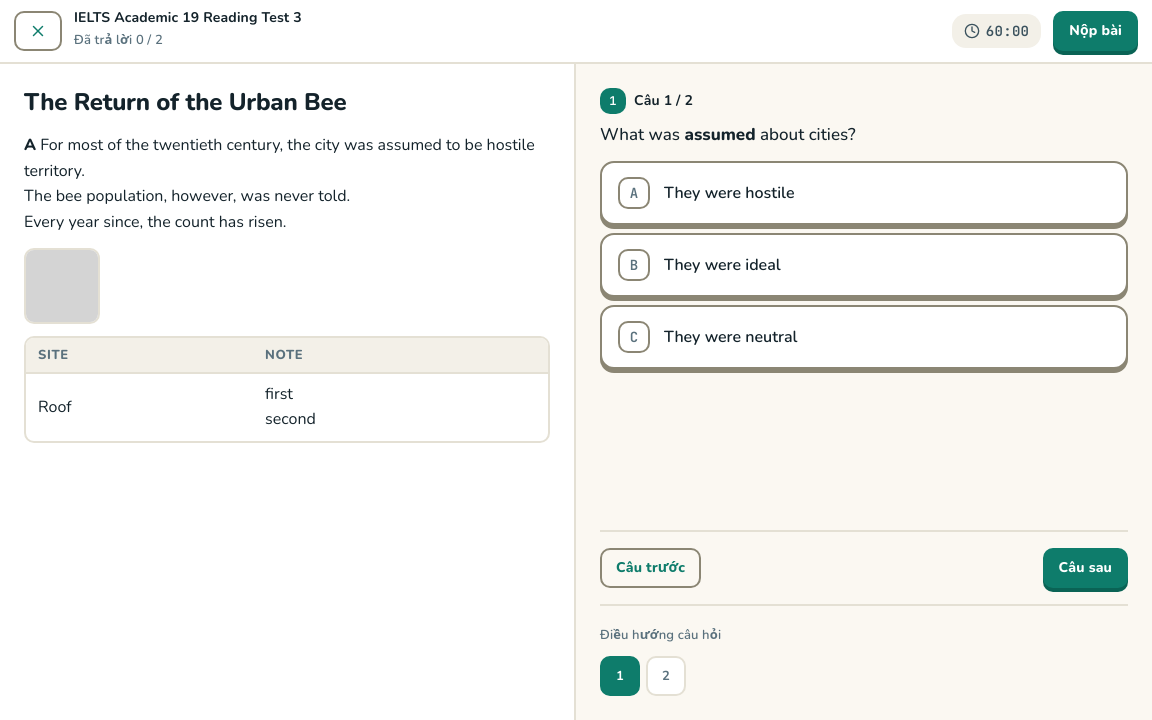
Test case: IeltsTakePage — loaded › renders a text input instead of tiles when a question has no options
Note: move to question 2, a sentence-completion with no options
Click the button "Câu sau". click: (1085, 568)
box: top-left (1042, 548), bottom-right (1128, 588)
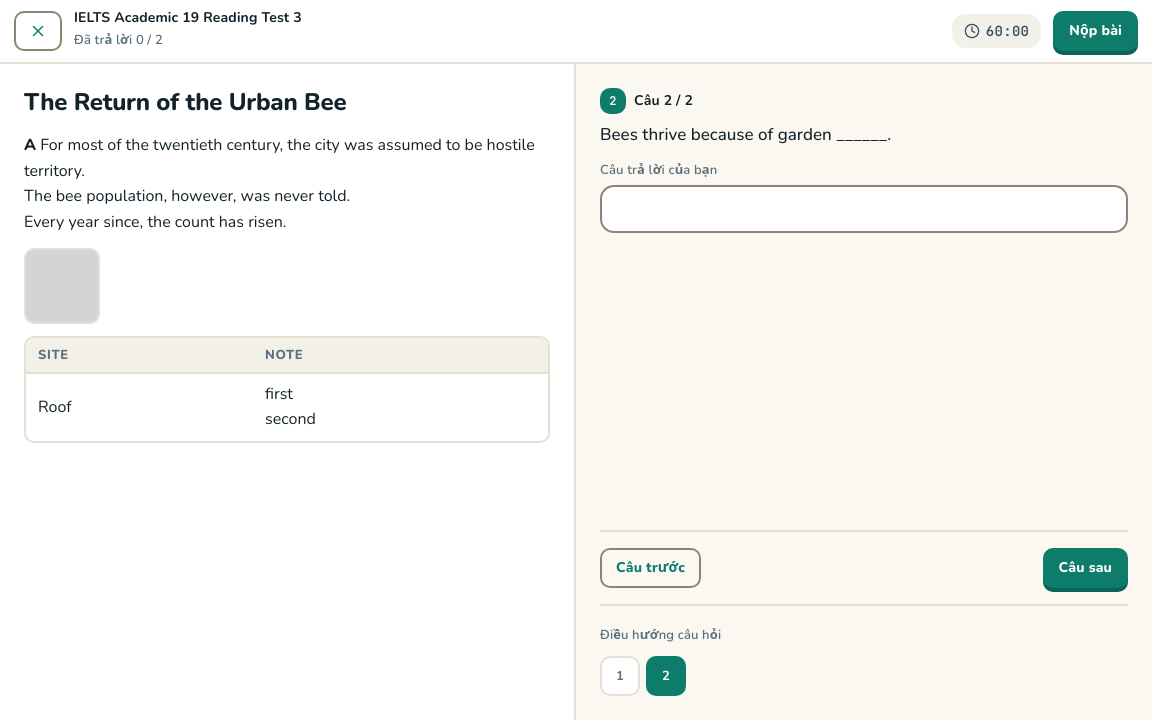
Expected: the text "Bees thrive because of garden ______." is shown, top-left (600, 123), bottom-right (891, 146)
Expected: the field labelled "Câu trả lời của bạn" is shown, top-left (600, 185), bottom-right (1128, 233)
